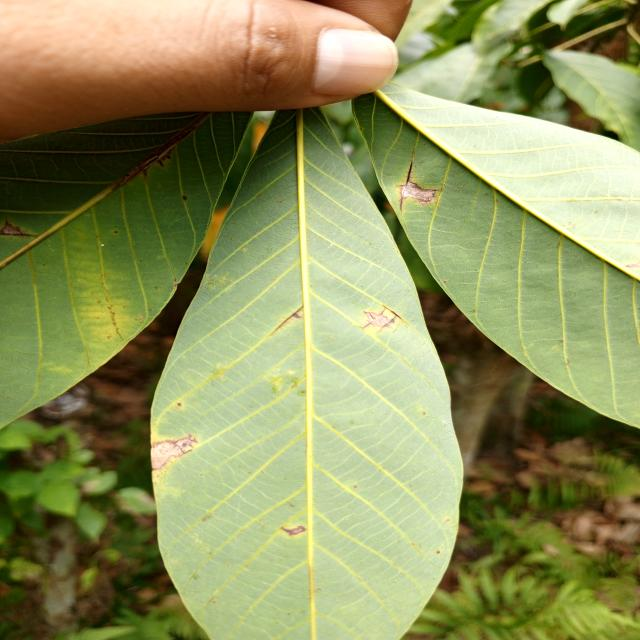Corynespora: (399, 162, 442, 211), (359, 304, 402, 332), (268, 307, 304, 335), (0, 216, 35, 237), (400, 162, 416, 187), (281, 526, 306, 536)
Leaf-Blight: (150, 441, 189, 468), (401, 181, 435, 204)
